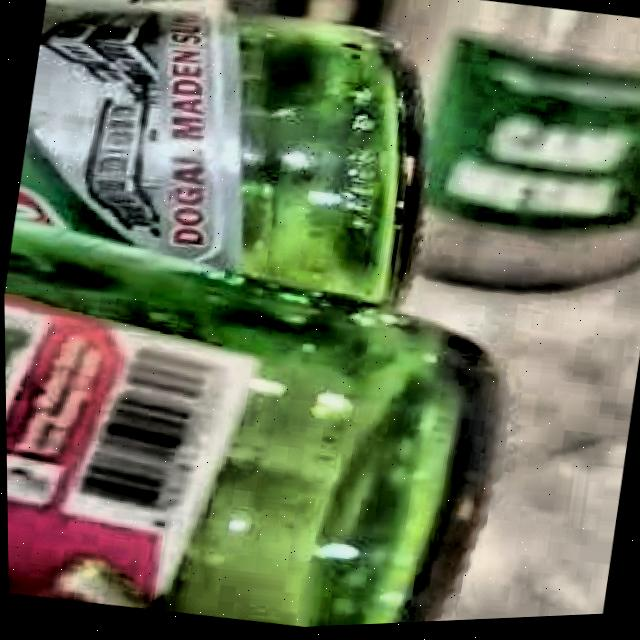glass: (3, 0, 502, 630)
